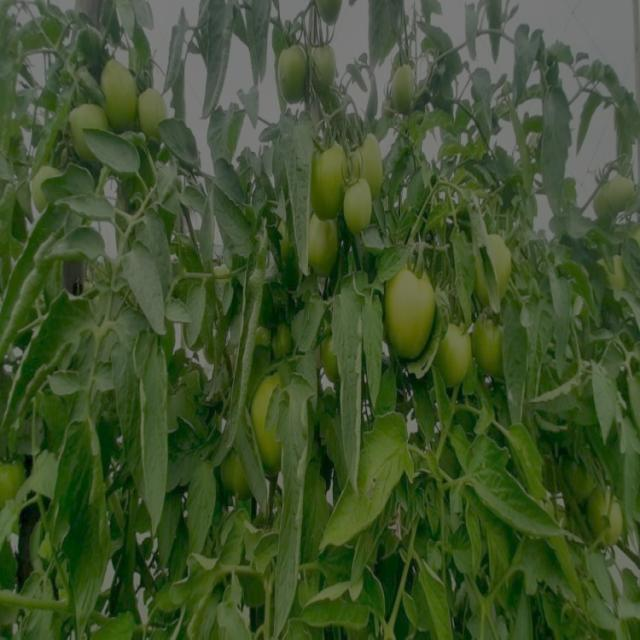tomato: (245, 368, 315, 474), (382, 265, 438, 362), (464, 228, 523, 302), (589, 154, 638, 231), (383, 48, 436, 118), (590, 479, 635, 557), (57, 95, 111, 156), (305, 132, 346, 209), (331, 182, 383, 241), (434, 319, 475, 392), (478, 310, 521, 377), (97, 54, 135, 123), (350, 125, 390, 186), (269, 34, 306, 99), (301, 209, 336, 276), (319, 332, 354, 387), (1, 451, 32, 513), (307, 37, 340, 94), (139, 83, 169, 131)
